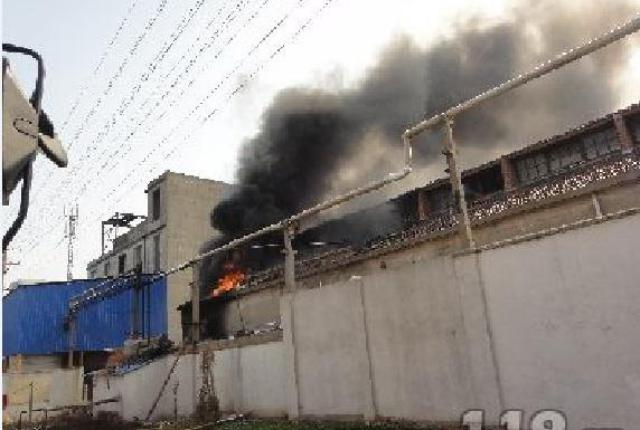smoke: (237, 119, 369, 191), (307, 65, 453, 114), (457, 11, 565, 69)
